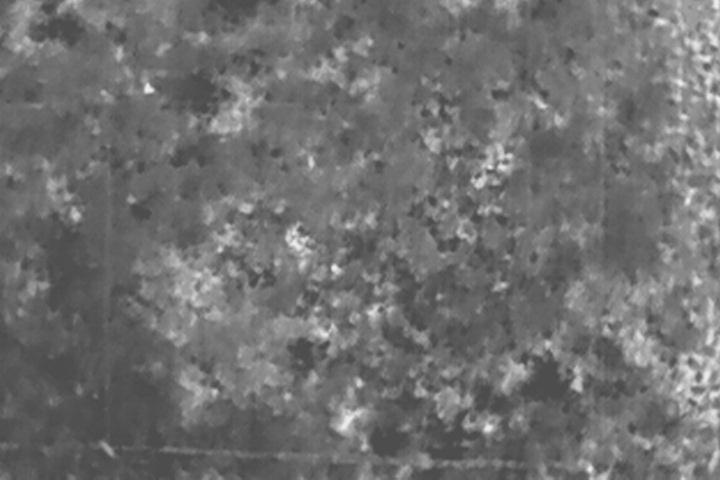landmine: (288, 220, 322, 256)
